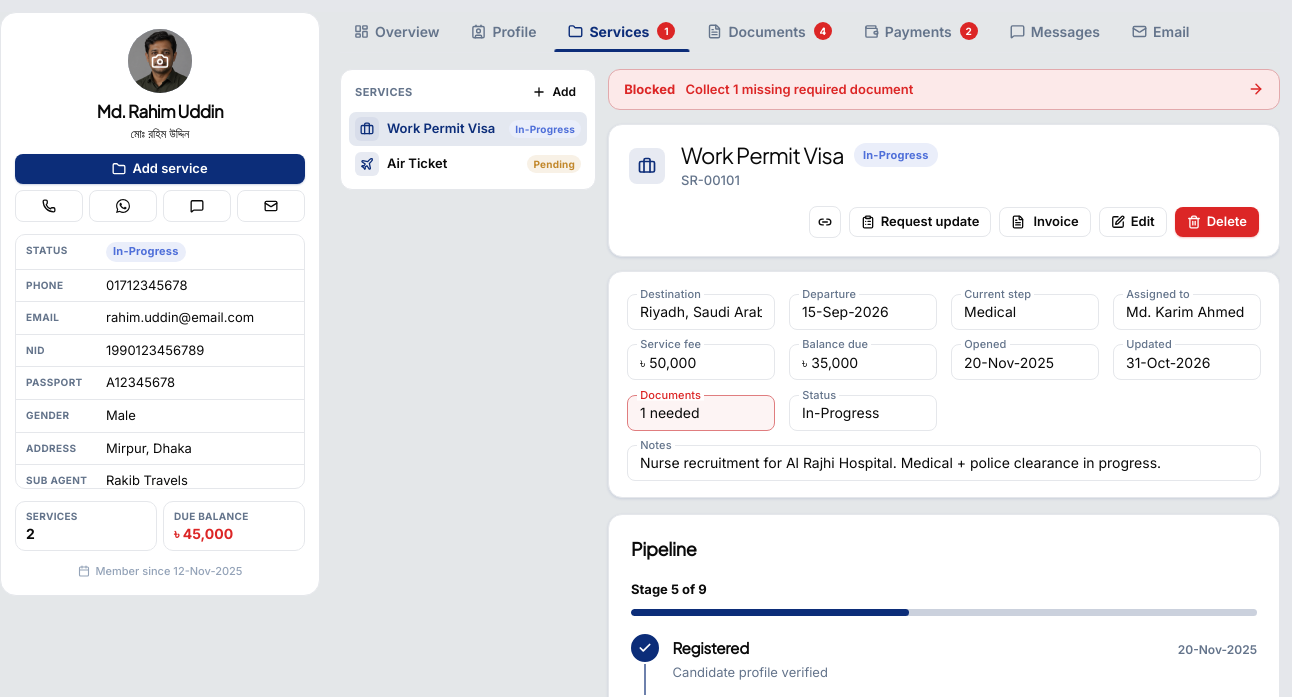
Scenario: service detail › keeps the same detail fields when editing
Click the button "Edit".
click(1133, 222)  # box x1=1099 y1=206 x2=1167 y2=236
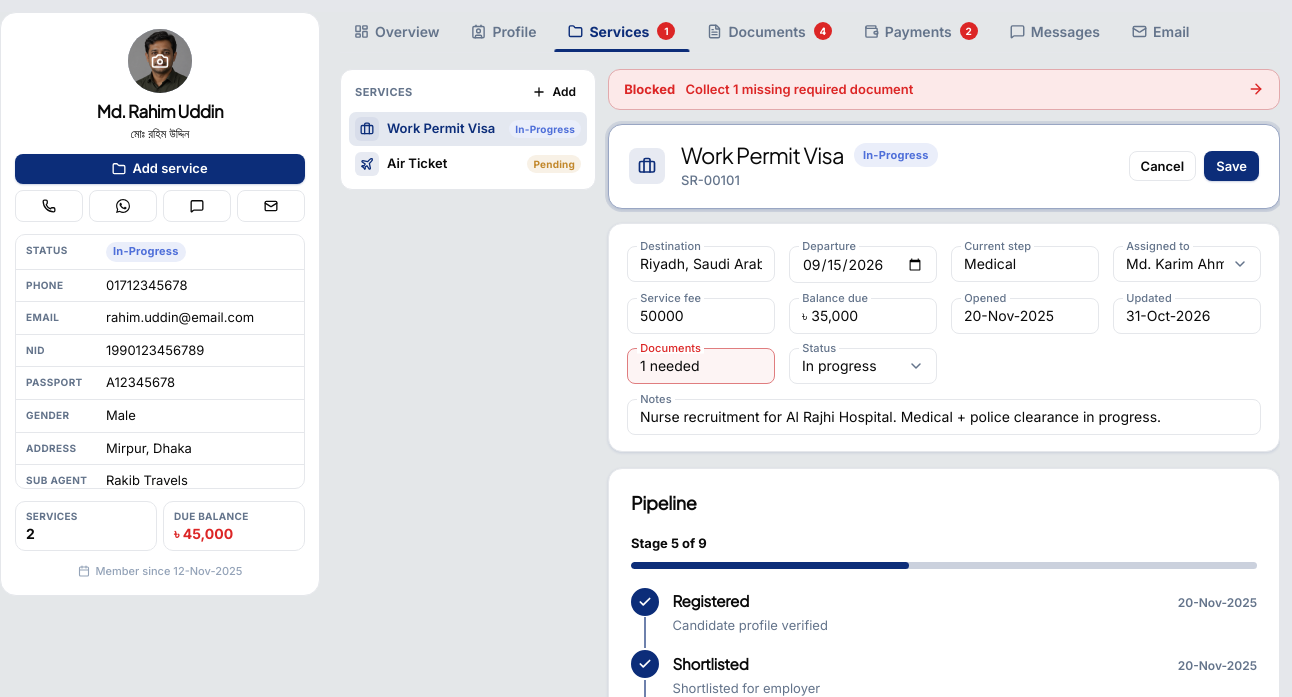
Expected: the button named "Assigned to" is shown, x1=1113 y1=246 x2=1261 y2=282
Expected: the button named "Status" is shown, x1=789 y1=348 x2=937 y2=384
Expected: the button "Save" is shown, x1=1204 y1=151 x2=1259 y2=181
